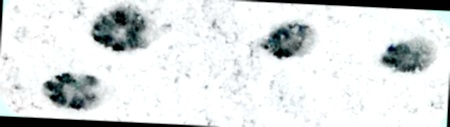lapin: (287, 3, 370, 63), (126, 11, 199, 68), (8, 18, 76, 70), (346, 72, 409, 123)
